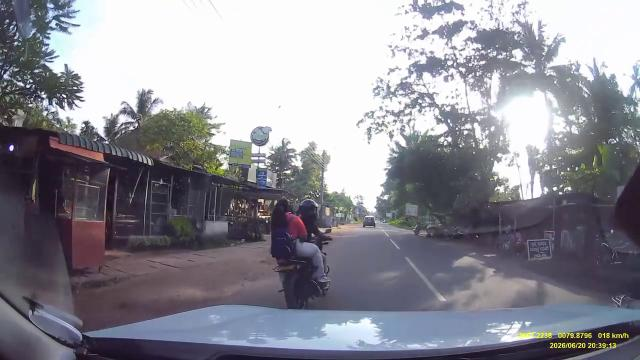no helmet: (274, 197, 293, 215)
